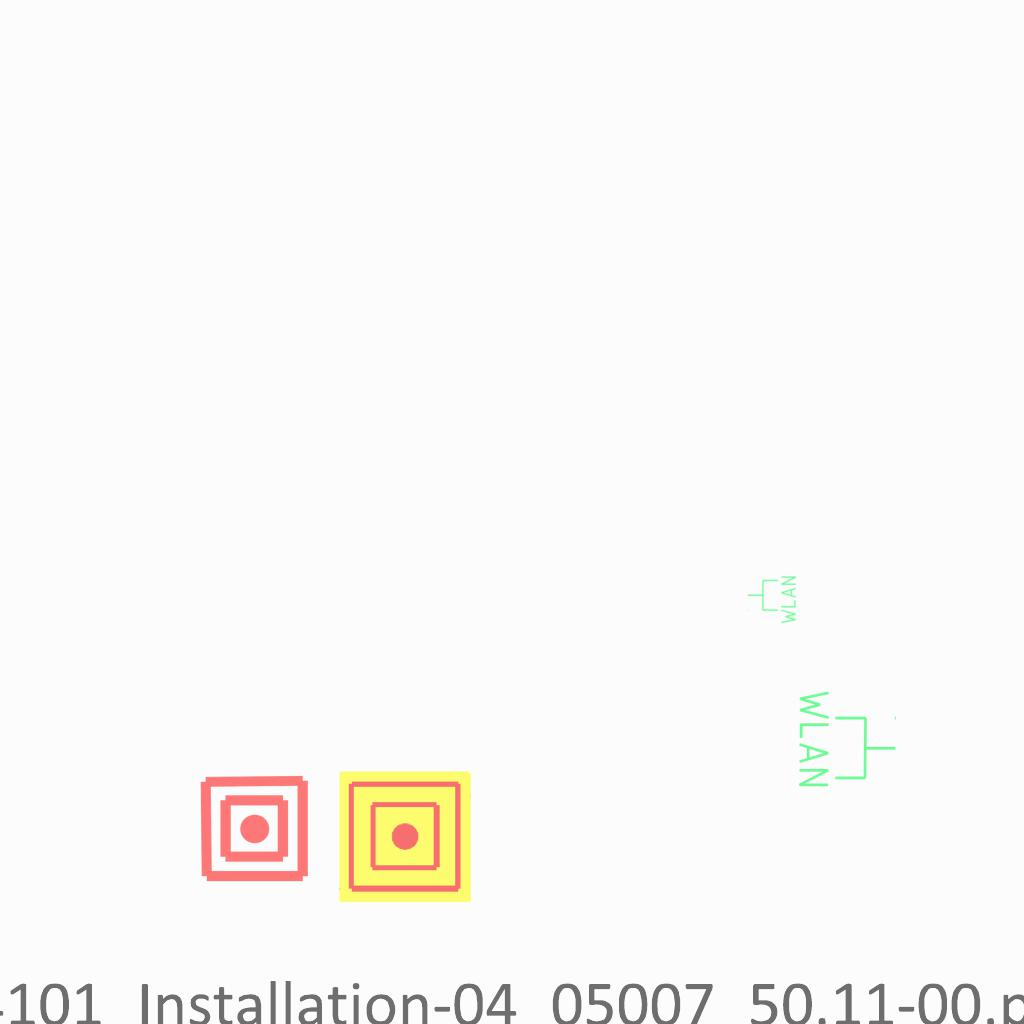NAM-Nichtautomatischer_Melder: (339, 771, 471, 903), (198, 772, 311, 885)
WLAN: (795, 686, 899, 791), (746, 574, 798, 626)
